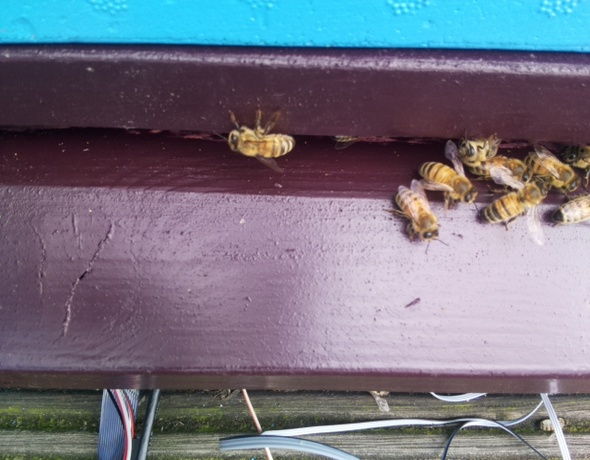no_pollen: (225, 116, 297, 170), (481, 177, 554, 230), (413, 155, 481, 210), (390, 184, 443, 248), (525, 144, 583, 198), (467, 153, 535, 190), (453, 129, 500, 169), (554, 194, 590, 229), (565, 138, 590, 172)
